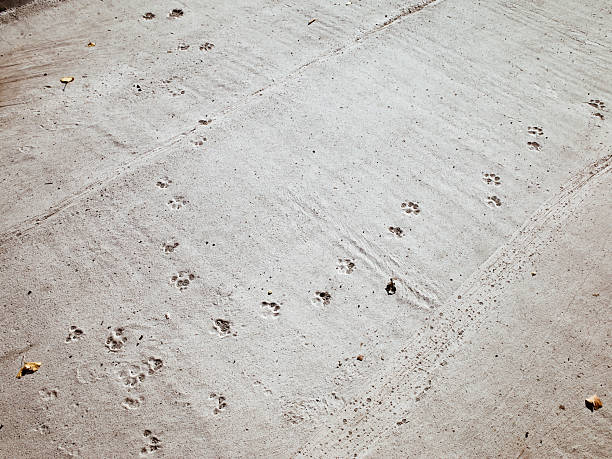animal_footprint: (119, 365, 146, 389), (140, 429, 161, 455), (105, 327, 126, 351), (171, 271, 195, 290), (212, 318, 236, 336), (209, 393, 226, 413), (121, 396, 144, 410), (144, 357, 162, 374), (261, 301, 280, 317), (65, 326, 83, 342), (337, 258, 355, 273), (167, 196, 187, 209), (313, 291, 331, 304), (39, 388, 58, 400), (401, 201, 420, 213), (385, 278, 397, 295), (483, 173, 500, 185), (587, 99, 605, 109), (162, 241, 178, 252), (156, 177, 171, 188), (168, 8, 184, 18), (487, 195, 501, 206), (388, 226, 403, 236), (527, 126, 543, 135), (527, 141, 541, 150), (199, 42, 214, 50), (194, 137, 207, 146), (198, 118, 212, 125), (142, 12, 155, 19), (593, 112, 604, 120), (178, 43, 189, 49)
